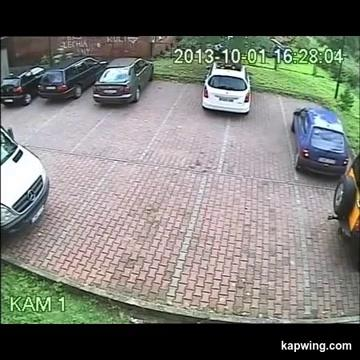car: (0, 126, 49, 235), (291, 106, 348, 176), (328, 153, 359, 269), (38, 56, 107, 99), (93, 57, 153, 103), (202, 62, 250, 113), (1, 65, 45, 105)
